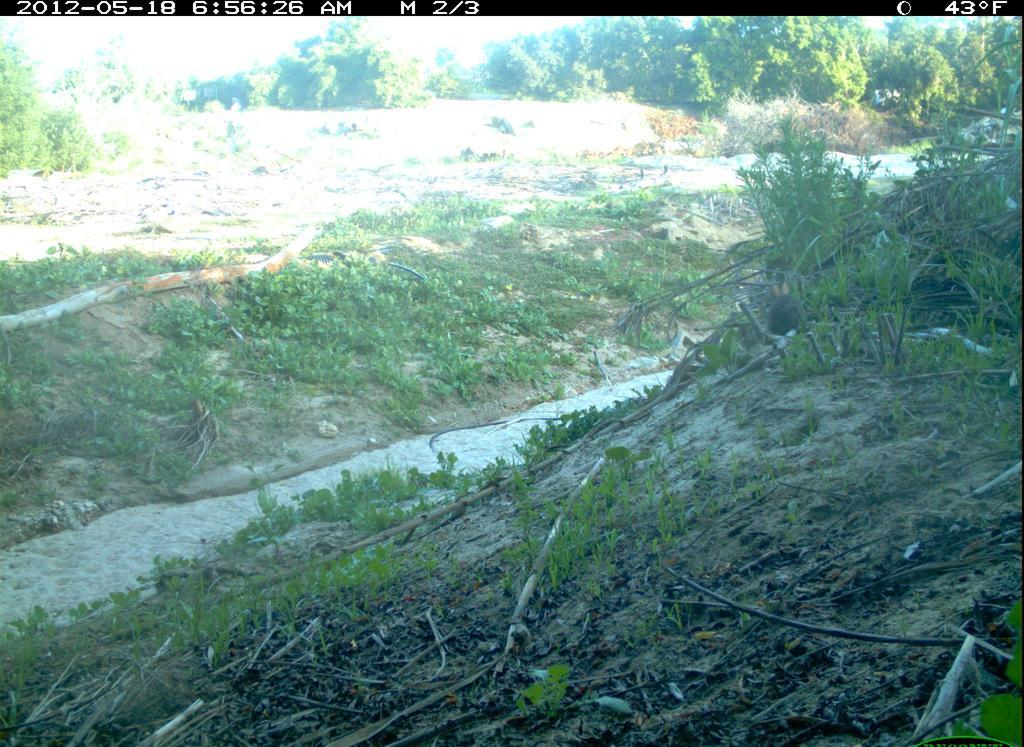rabbit: (762, 278, 818, 354)
